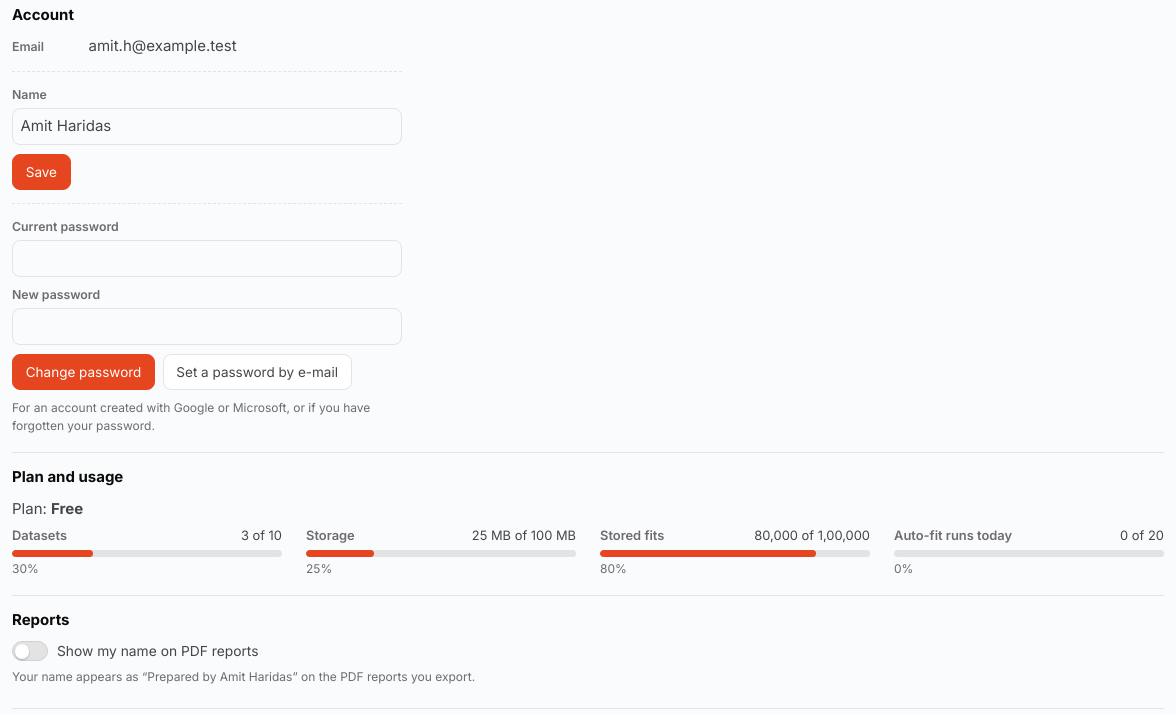
ProfilePage — Account › shows the server's reason when it refuses a name
Expected: the heading "Account" is shown, x1=12 y1=5 x2=74 y2=24
In the field labelled "Name": (207, 126) x1=12 y1=108 x2=402 y2=145, type "!"
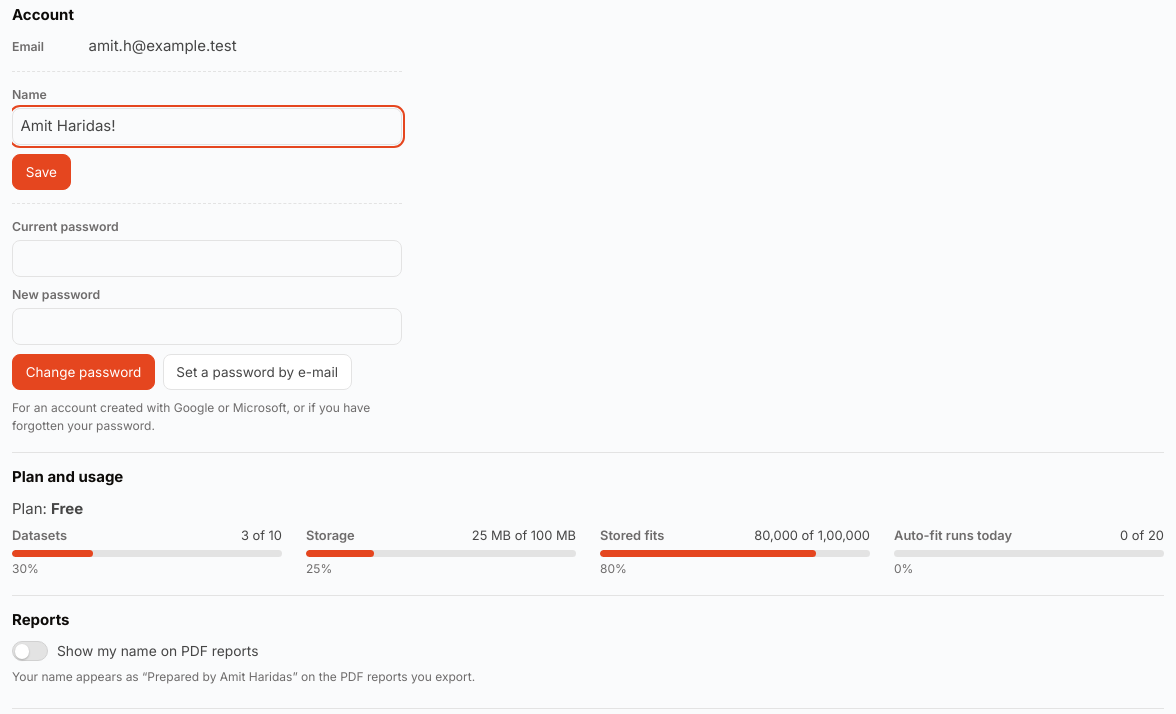
Click the button "Save": (41, 172) x1=12 y1=154 x2=71 y2=190
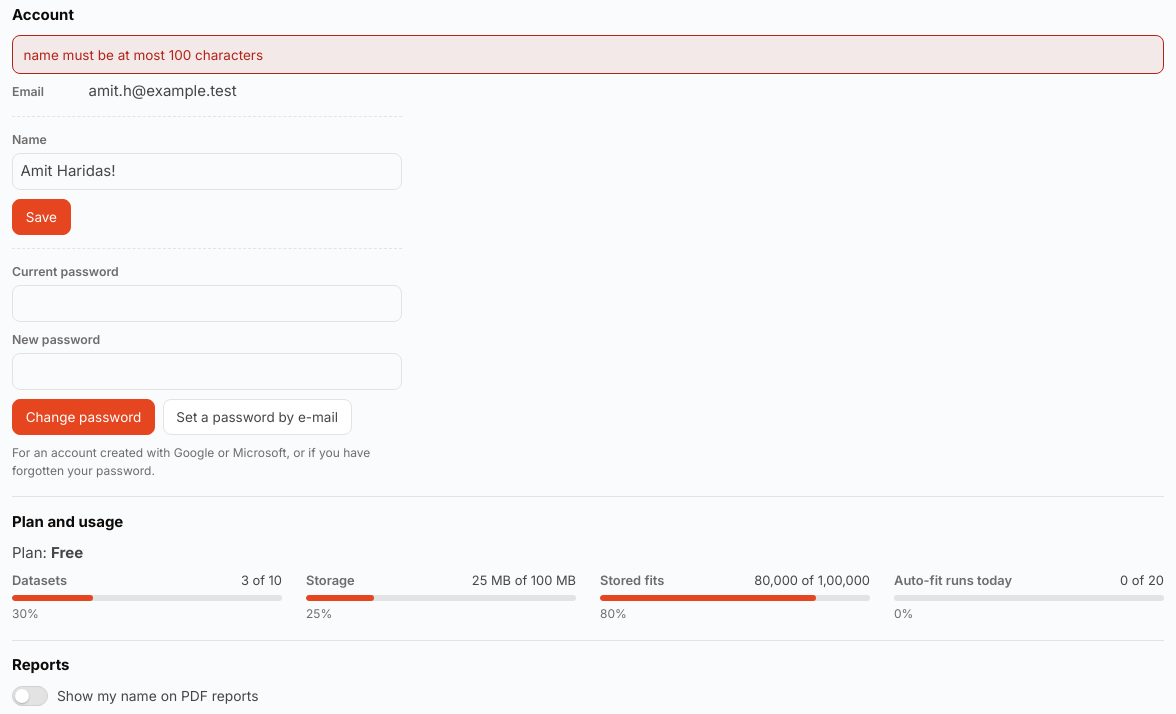
Expected: the message reads "name must be at most 100 characters", x1=24 y1=46 x2=263 y2=62
